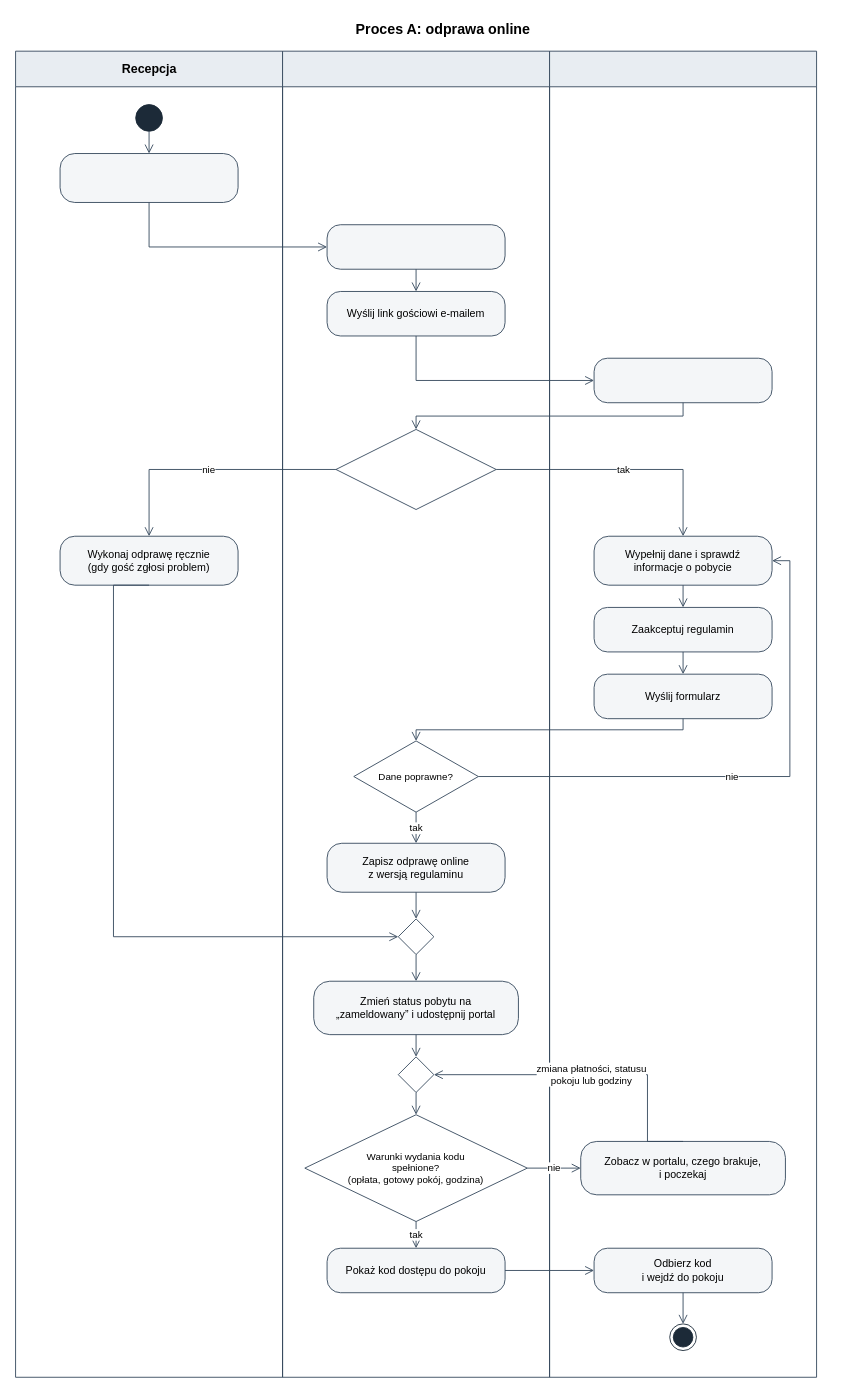
This 859x1393 diagram has some shape labels left out. The box of each missing label's shape, as (x1, y1, x2, y2) in pixels:
Gość: (549, 50, 817, 1377)
Link ważny i odprawa niewykonana?: (335, 429, 496, 510)
Otwórz link: (593, 357, 772, 403)
System: (282, 50, 550, 1377)
Wprowadź pobyt (pokój, daty, gość główny): (59, 153, 238, 202)
Wygeneruj unikalny link do odprawy: (326, 224, 505, 269)
